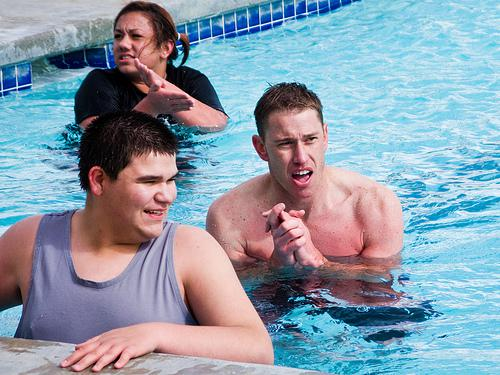human: (0, 108, 277, 366), (207, 78, 414, 270), (74, 3, 229, 134)
